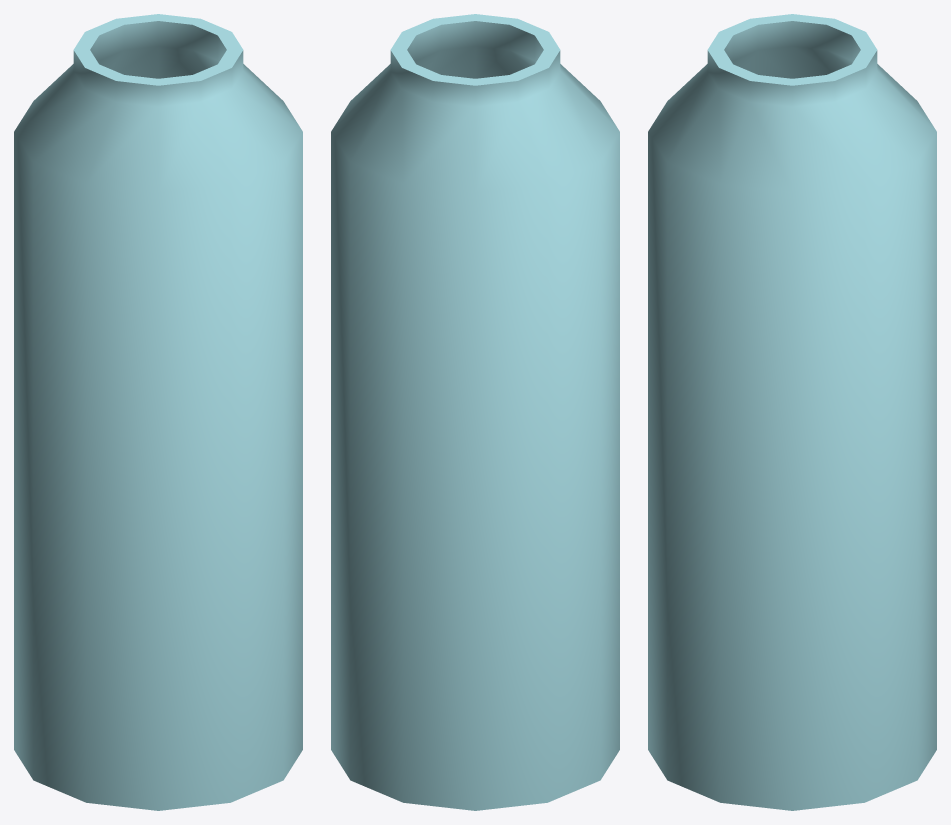
The model's file is JarFilled3.fbx.
The picture shows the model from 3 angles, left to right: view 1: azimuth 30°, elevation 25°; view 2: azimuth 150°, elevation 25°; view 3: azimuth 270°, elevation 25°; orthographic projection.
Parts seen in each view (by area): view 1: JarFilled3; view 2: JarFilled3; view 3: JarFilled3.
Part boxes in pixels (left/top/right/bottom): JarFilled3: left=14, top=14, right=302, bottom=810; JarFilled3: left=331, top=14, right=619, bottom=810; JarFilled3: left=648, top=14, right=936, bottom=810.
Size of the model in its own units: 7.47 by 19.98 by 7.47.
